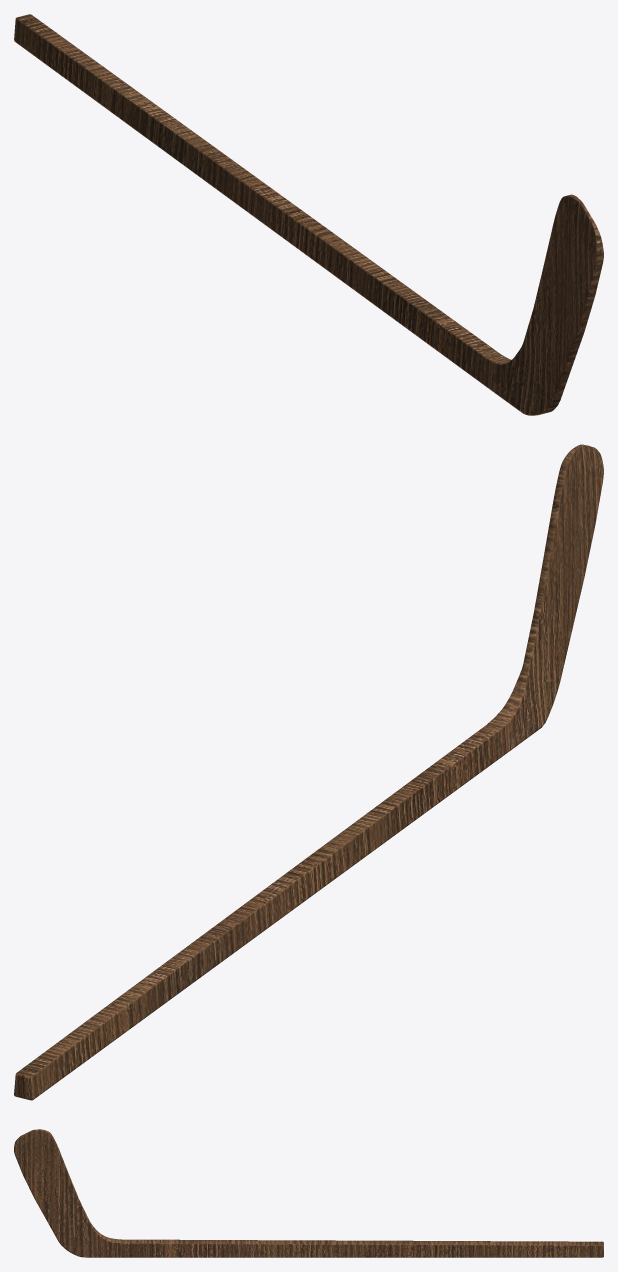
Rendered from stick.obj.
3 views of the same model, one above another, from view 1: azimuth 30°, elevation 25°; view 2: azimuth 150°, elevation 25°; view 3: azimuth 270°, elevation 25° (orthographic). The views are drawn at different scales.
Parts seen in each view (by area): view 1: Box01; view 2: Box01; view 3: Box01.
Part boxes in pixels (x1,y1,x2,y2): Box01: (14, 14, 603, 415); Box01: (14, 444, 603, 1100); Box01: (14, 1129, 603, 1257).
Size of the model in its own units: 33.17 by 411 by 1749.
